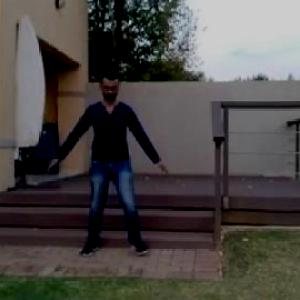land: (42, 72, 160, 266)
